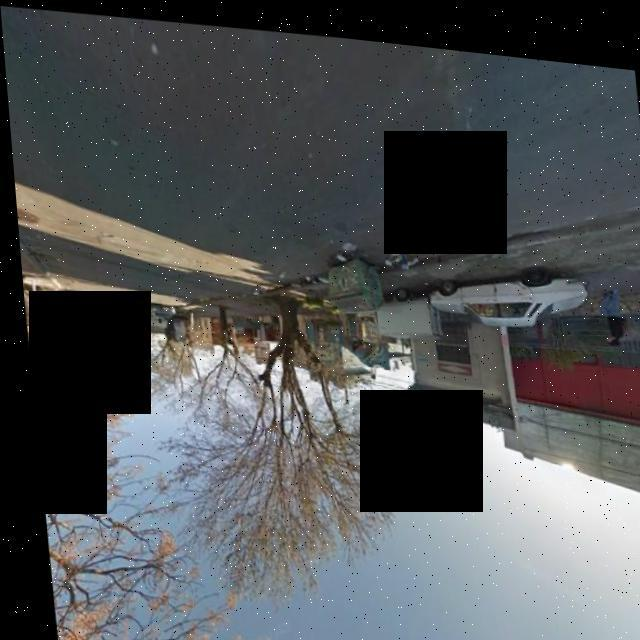bin: (310, 240, 387, 315)
